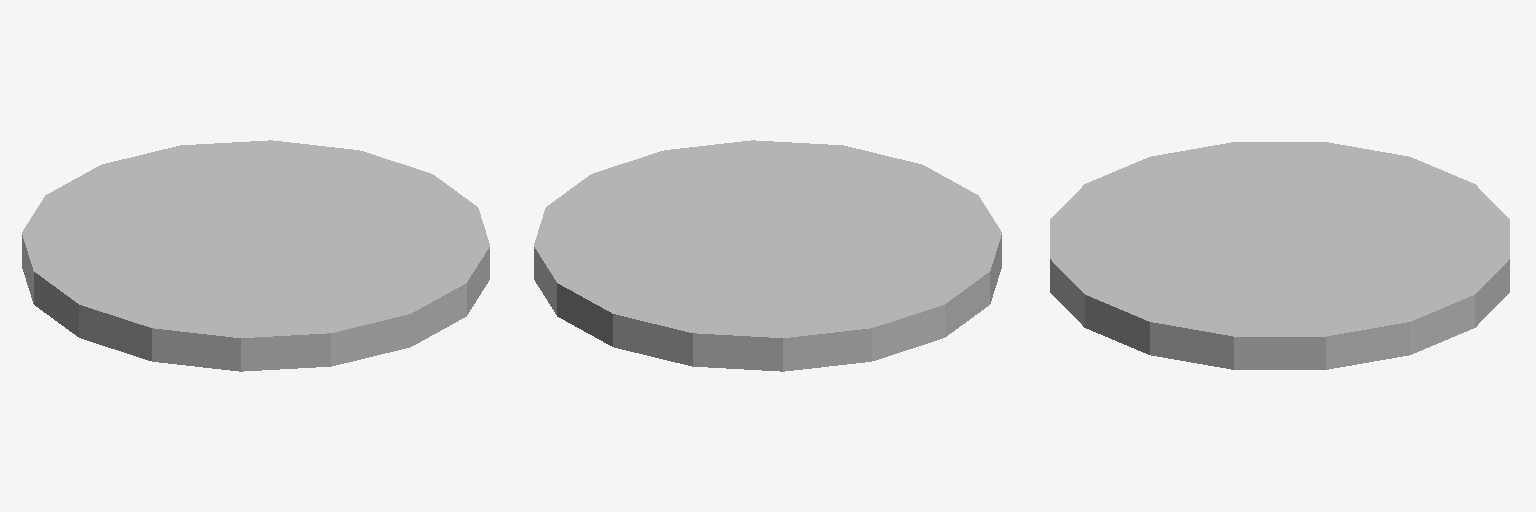
File: Knight_Control_A_Collider.obj
The picture shows the model from 3 angles: view 1: azimuth 30°, elevation 25°; view 2: azimuth 150°, elevation 25°; view 3: azimuth 270°, elevation 25°; orthographic projection.
Parts seen in each view (by area): view 1: Knight_Control_A_Collider; view 2: Knight_Control_A_Collider; view 3: Knight_Control_A_Collider.
Boxes of the visible parts, box(x1,y1,x2,y2) form: Knight_Control_A_Collider: box(22, 140, 489, 371); Knight_Control_A_Collider: box(534, 140, 1001, 371); Knight_Control_A_Collider: box(1050, 142, 1509, 369).
Size of the model in its own units: 0.9375 by 0.075 by 0.9375.